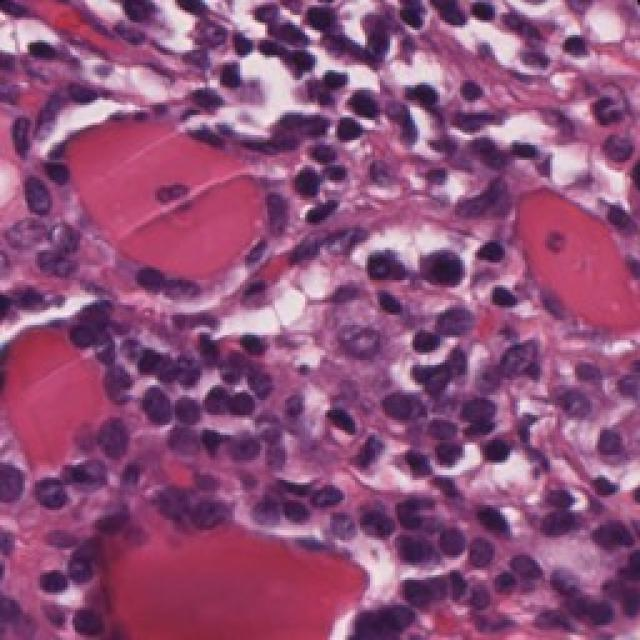normal: (238, 166, 314, 246), (510, 274, 590, 350), (112, 239, 170, 337), (28, 585, 124, 640), (75, 410, 151, 475), (19, 135, 84, 206), (81, 347, 156, 401), (25, 462, 80, 530)
